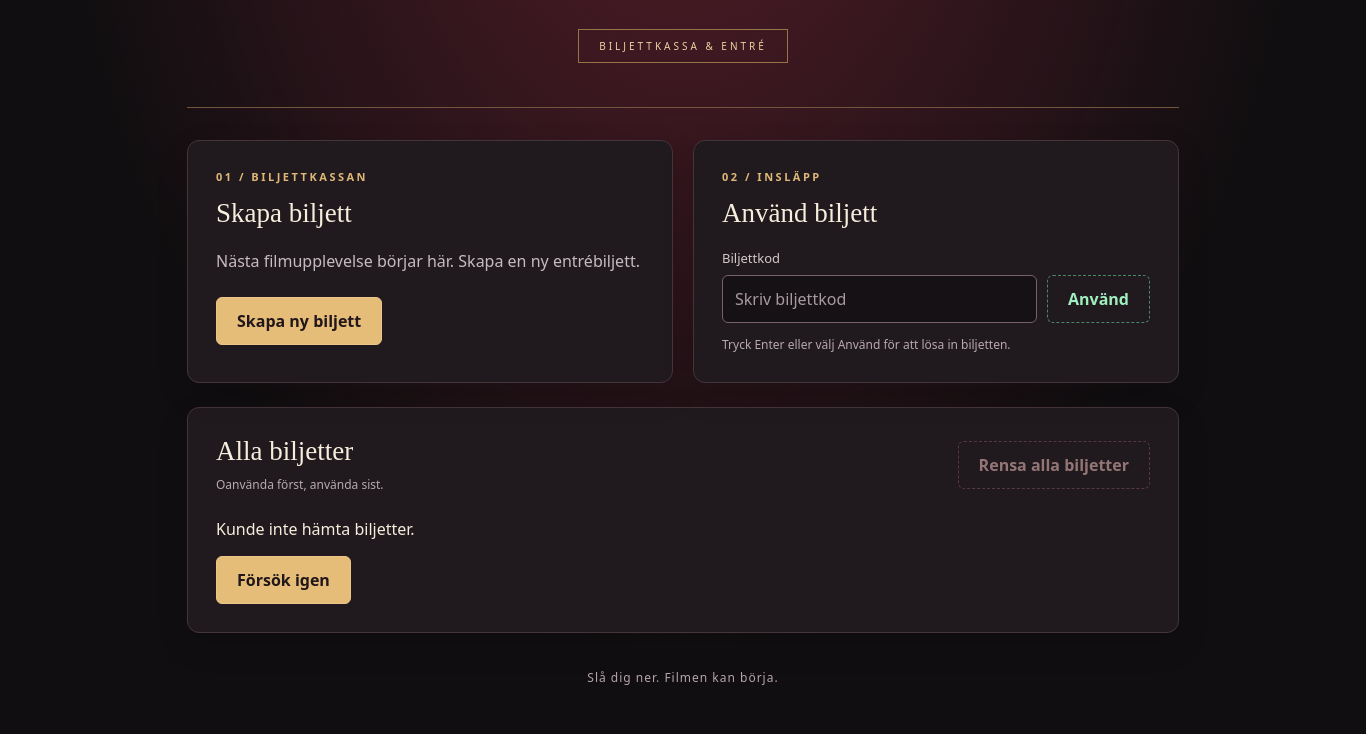
Ticket system › should distinguish a loading error from an empty list and allow retry
This screenshot has width=1366, height=734.
(page scrolled)
Expected: the text "Kunde inte hämta biljetter." is shown, [216,518,415,540]
Expected: the text "Inga biljetter finns." is not shown
Click the button "Försök igen": {"x": 283, "y": 580} [216,556,351,604]
(page scrolled)
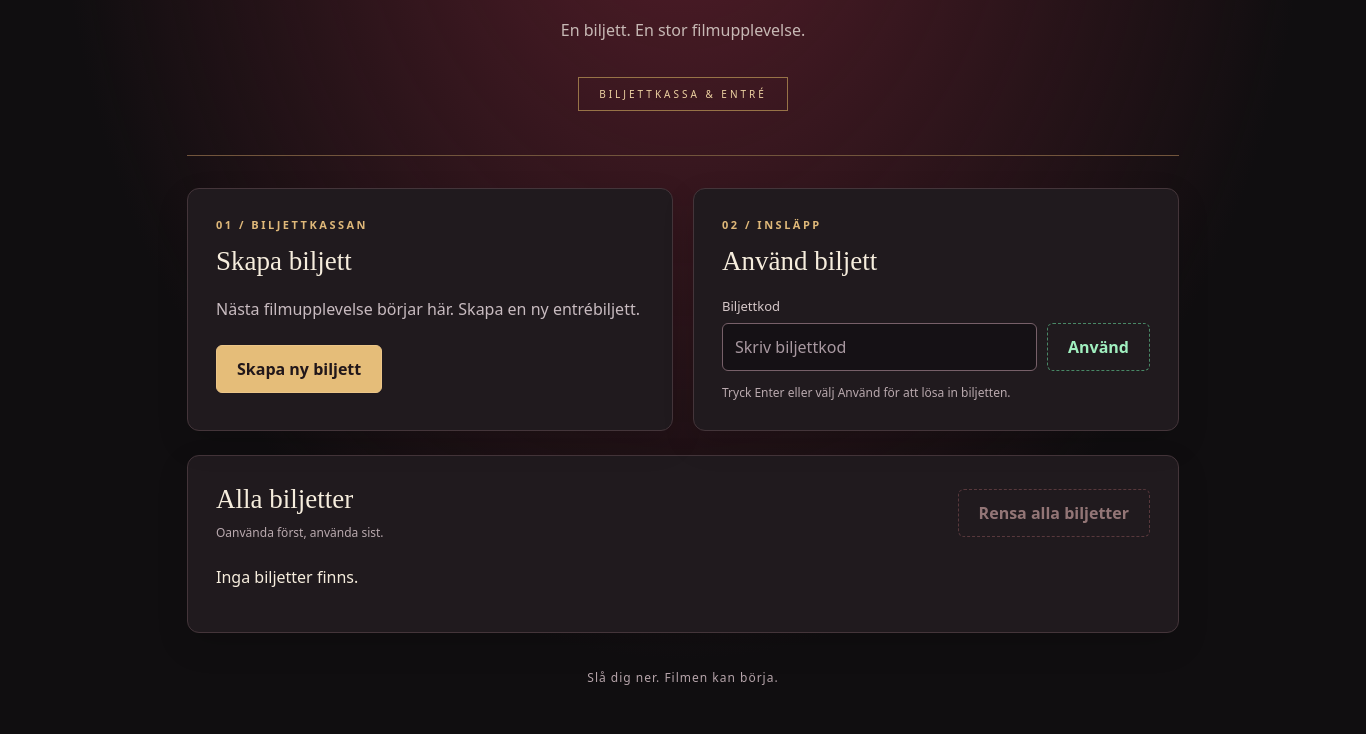
Expected: the text "Inga biljetter finns." is shown, [216,566,358,588]
Expected: the message "Kunde inte hämta biljetter." is gone
